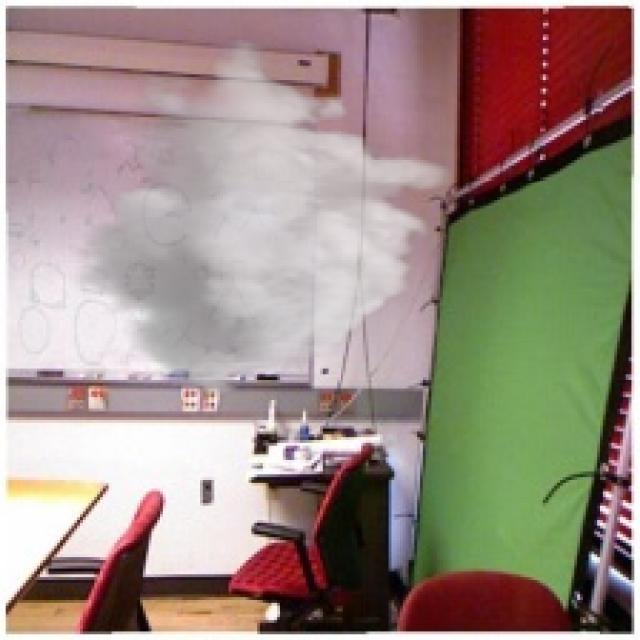smoke: (69, 37, 457, 400)
